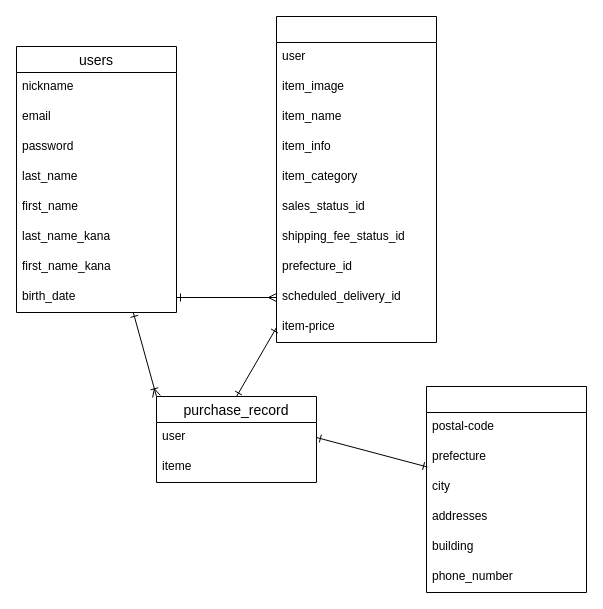
Some shapes in this 603 by 609 pixel diagram are drawn without their labels. Here are the shapes that lost their labels. From the top down, the box of each, then its label:
(276, 16, 436, 342): items
(426, 386, 586, 592): shipping_address
